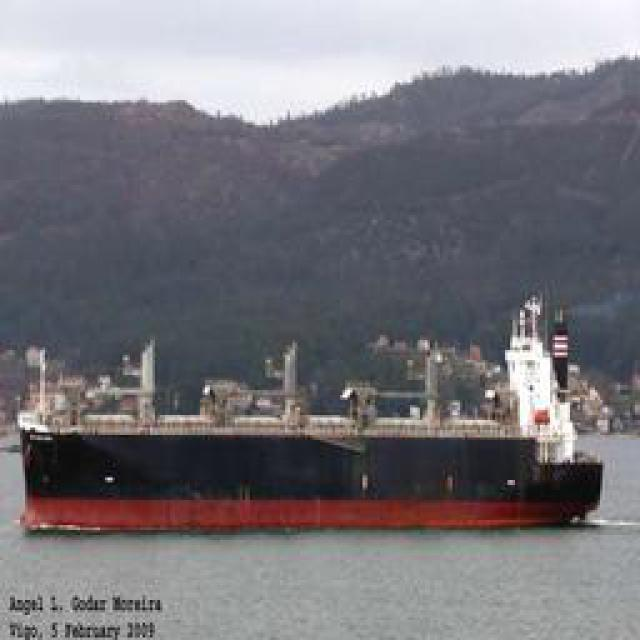Ship: (15, 310, 598, 538)
